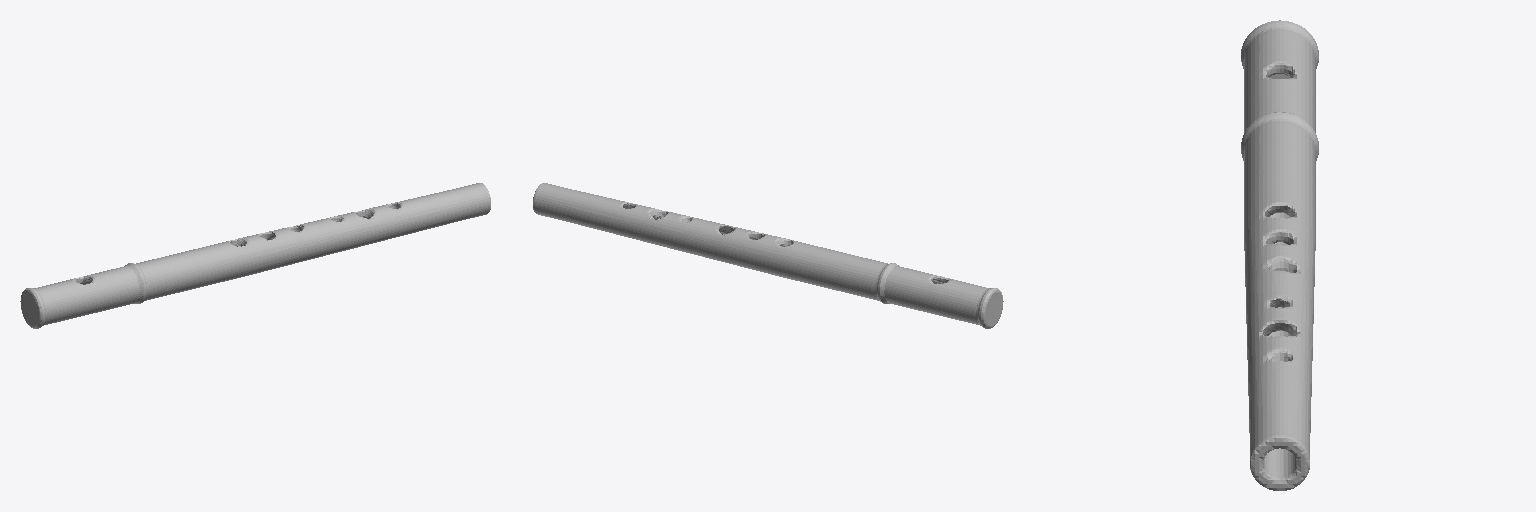
The robot description file, URDF, robot "root":
<robot name="root">
  <link name="link_001">
    <visual>
      <origin xyz="0 0 0" rpy="0 0 0"/>
      <geometry>
        <mesh filename="flute.obj" scale="1.5000E+00 1.5000E+00 1.5000E+00"/>
      </geometry>
      <material name="">
        <color rgba="7.50E-01 7.50E-01 7.50E-01 1"/>
      </material>
    </visual>
    <collision>
      <origin xyz="0 0 0" rpy="0 0 0"/>
      <geometry>
        <mesh filename="flute.obj" scale="1.5000E+00 1.5000E+00 1.5000E+00"/>
      </geometry>
    </collision>
    <inertial>
      <mass value="0.16"/> <!-- 质量：0.1kg -->
    </inertial>
  </link>
</robot>

--- Render facts (derived) ---
The picture shows the robot from 3 angles, left to right: view 1: azimuth 30°, elevation 25°; view 2: azimuth 150°, elevation 25°; view 3: azimuth 270°, elevation 25°; orthographic projection.
Robot: root — 1 links, 0 joints (none); root link link_001; default pose: every joint at zero.
Visible links, largest first — view 1: link_001; view 2: link_001; view 3: link_001.
Link boxes in pixels (bbox=[...]): link_001: bbox=[20, 183, 490, 328]; link_001: bbox=[533, 183, 1003, 328]; link_001: bbox=[1241, 20, 1318, 490].
Bounding box of the posed robot: 0.315 × 0.0254 × 0.0254 m (x, y, z).
Meshes: 1 distinct files referenced, 1 mesh visuals loaded (1 OBJ).
